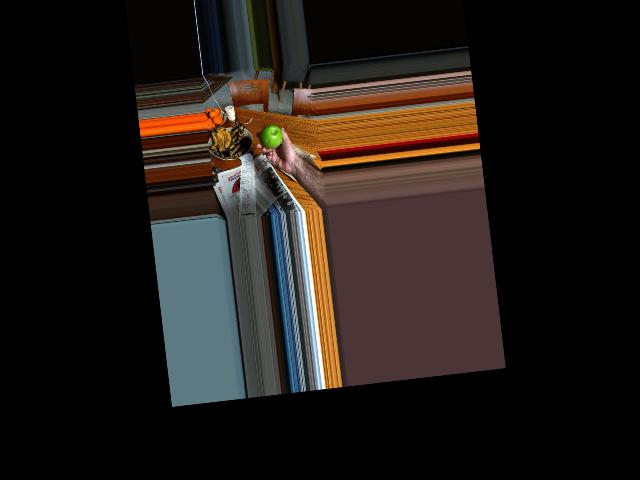apple: (258, 123, 285, 149)
